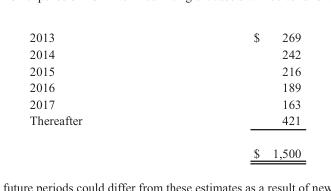table: (28, 29, 300, 159)
table column: (28, 29, 167, 159), (167, 29, 300, 159)
table row: (28, 111, 300, 136), (28, 136, 300, 159), (28, 45, 300, 62), (28, 78, 300, 95), (28, 29, 300, 45), (28, 62, 300, 78), (28, 95, 300, 111)
